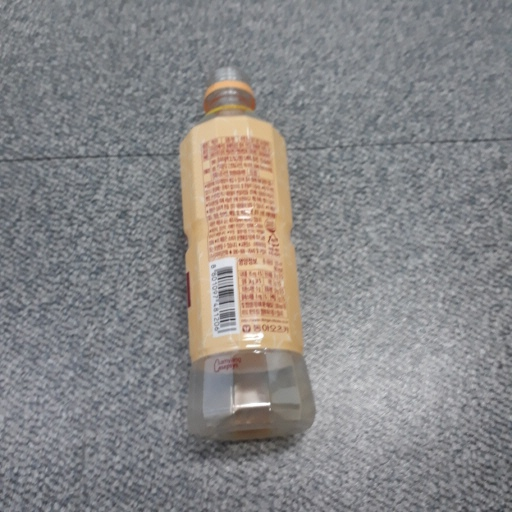Plastic_0: (177, 64, 318, 439)
